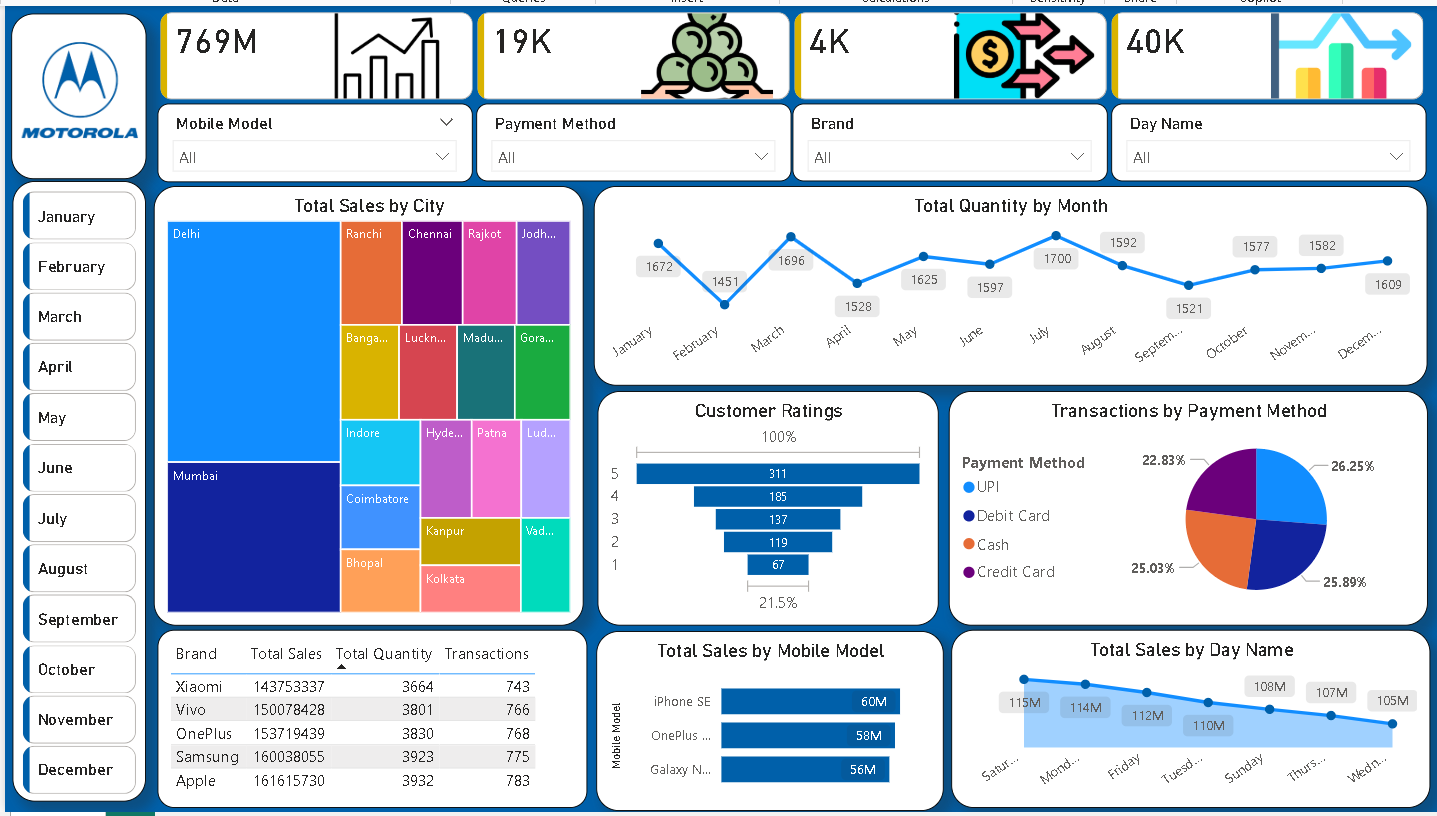

The dashboard page shown, as its layout file describes it:
{"tool":"powerbi","page":{"name":"Page 1","canvas":[1280,720],"ordinal":0},"visuals":[{"type":"shape","box":[5.5,6.9,120.8,148.2],"z":0},{"type":"image","box":[9.6,16.5,113.9,116.6],"z":1000},{"type":"shape","box":[6.9,156.4,119.4,554.4],"z":2000},{"type":"advancedSlicerVisual","fields":{"Values":["Sales_Data.Date.Variation.Date Hierarchy.Month"]},"box":[11,160.5,111.1,548.9],"z":3000},{"type":"cardVisual","fields":{"Data":["Sales_Data.Total Sales","Sales_Data.Total Quantity","Sales_Data.Transactions","Sales_Data.Average"]},"box":[134,5.6,1140.1,83.7],"z":4000},{"type":"treemap","fields":{"Group":["Sales_Data.City"],"Values":["Sales_Data.Total Sales"]},"box":[132.9,160.8,384.1,393.1],"z":5000},{"type":"lineChart","fields":{"Y":["Sales_Data.Total Quantity"],"Category":["Sales_Data.Date.Variation.Date Hierarchy.Month","Sales_Data.Date.Variation.Date Hierarchy.Day"]},"box":[525.9,160.8,744.8,178.7],"z":6000},{"type":"clusteredBarChart","fields":{"Category":["Sales_Data.Mobile Model"],"Y":["Sales_Data.Total Sales"]},"box":[528.3,558.5,310.1,160.5],"z":7000},{"type":"pieChart","fields":{"Category":["Sales_Data.Payment Method"],"Y":["Sales_Data.Transactions"]},"box":[842.5,344.4,428.1,209.9],"z":8000},{"type":"funnel","title":"Customer Ratings","fields":{"Category":["Sales_Data.Customer Ratings"],"Y":["CountNonNull(Sales_Data.Customer Ratings)"]},"box":[529.7,344.4,304.6,209.9],"z":9000},{"type":"areaChart","fields":{"Category":["Sales_Data.Day Name"],"Y":["Sales_Data.Total Sales"]},"box":[845.3,557.1,428.1,159.2],"z":10000},{"type":"tableEx","fields":{"Values":["Sales_Data.Brand","Sales_Data.Total Sales","Sales_Data.Total Quantity","Sales_Data.Transactions"]},"box":[135.8,557.1,384.2,159.2],"z":11000},{"type":"slicer","fields":{"Values":["Sales_Data.Mobile Model"]},"box":[136.2,87.1,281.4,70.3],"z":12000},{"type":"slicer","fields":{"Values":["Sales_Data.Payment Method"]},"box":[421,87.1,281.4,69.2],"z":13000},{"type":"slicer","fields":{"Values":["Sales_Data.Brand"]},"box":[703.5,87.1,281.4,69.2],"z":14000},{"type":"slicer","fields":{"Values":["Sales_Data.Day Name"]},"box":[988.2,87.1,281.4,69.2],"z":15000}]}

Visuals, with their boxes in screenshot pixels (x1, y1, x2, y2):
shape: <box>14,11,147,175</box>
image: <box>18,22,144,151</box>
shape: <box>15,177,147,791</box>
advancedSlicerVisual - Sales_Data.Date.Variation.Date Hierarchy.Month: <box>20,181,143,789</box>
cardVisual - Sales_Data.Total Sales x Sales_Data.Total Quantity: <box>156,10,1418,103</box>
treemap - Sales_Data.City x Sales_Data.Total Sales: <box>155,182,580,617</box>
lineChart - Sales_Data.Total Quantity x Sales_Data.Date.Variation.Date Hierarchy.Month: <box>590,182,1414,380</box>
clusteredBarChart - Sales_Data.Mobile Model x Sales_Data.Total Sales: <box>592,622,936,800</box>
pieChart - Sales_Data.Payment Method x Sales_Data.Transactions: <box>940,385,1414,617</box>
"Customer Ratings" funnel: <box>594,385,931,617</box>
areaChart - Sales_Data.Day Name x Sales_Data.Total Sales: <box>943,621,1417,797</box>
tableEx - Sales_Data.Brand x Sales_Data.Total Sales: <box>158,621,583,797</box>
slicer - Sales_Data.Mobile Model: <box>158,100,470,178</box>
slicer - Sales_Data.Payment Method: <box>474,100,785,177</box>
slicer - Sales_Data.Brand: <box>786,100,1098,177</box>
slicer - Sales_Data.Day Name: <box>1102,100,1413,177</box>
